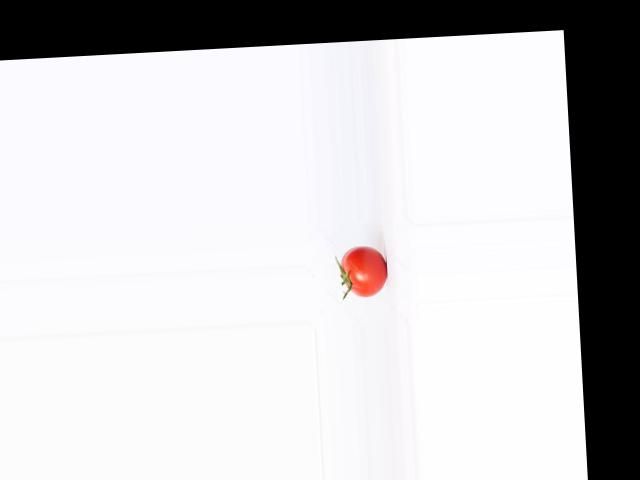tomato: (340, 243, 388, 297)
